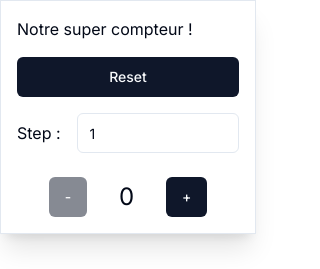
Test case: test du composant Counter avec les valeurs par défauts › Si on modifie le step à 2, on incremente de 2 (ça affiche 2) et on décremente de 2 (ça affiche 0)
Replace the text in the number field with "2" at [158, 133], box [76,113,239,153]
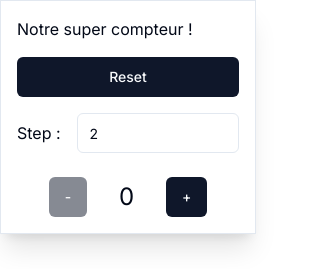
Click the button "+".
click(187, 197)  # box [166,177,207,217]
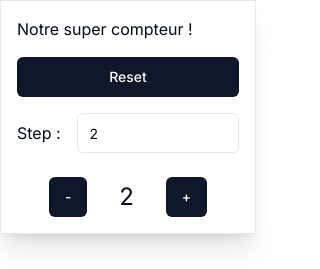
Expected: the text "2" is shown, [119,181,134,213]
Click the button "-".
click(68, 197)  # box [49,177,87,217]
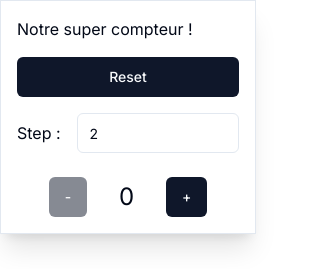
Expected: the text "0" is shown, [119,181,134,213]
